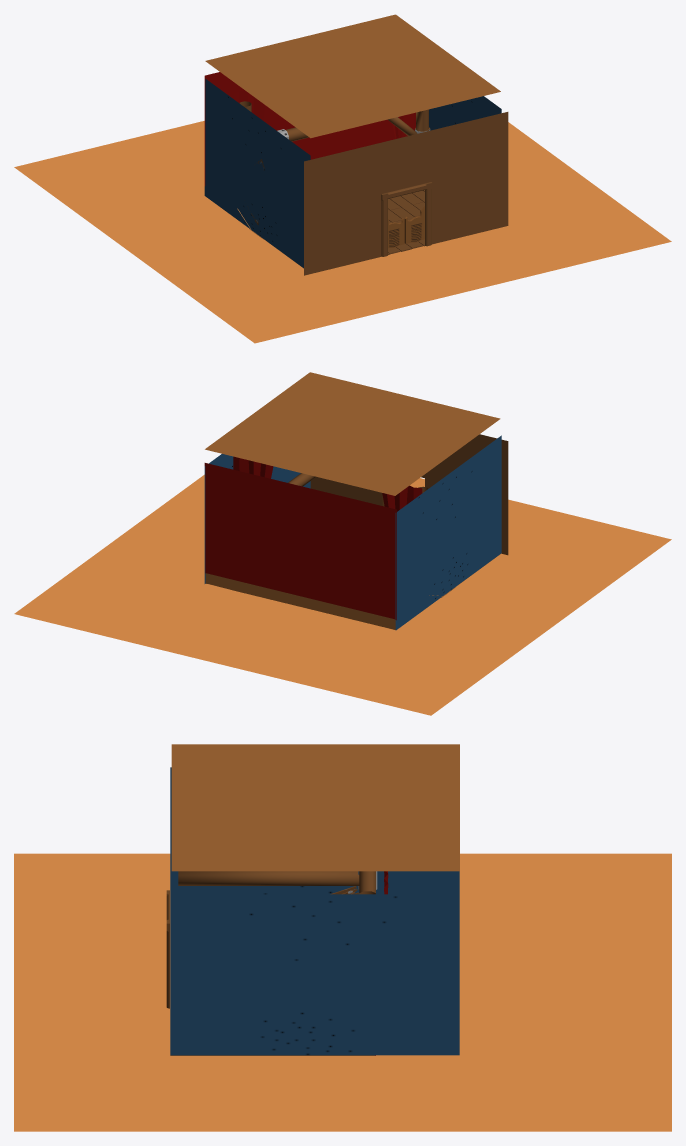
File: newAuctionHall.fbx
The picture shows the model from 3 angles, top to bottom: view 1: azimuth 30°, elevation 25°; view 2: azimuth 150°, elevation 25°; view 3: azimuth 270°, elevation 25°; orthographic projection. The views are drawn at different scales.
Visible parts, largest first — view 1: AuctionHall; view 2: AuctionHall; view 3: AuctionHall.
Part boxes in pixels (x1=…): AuctionHall: x1=14, y1=14, x2=671, y2=343; AuctionHall: x1=14, y1=372, x2=671, y2=715; AuctionHall: x1=14, y1=744, x2=671, y2=1131.
Size of the model in its own units: 8000 by 2493 by 8000.
